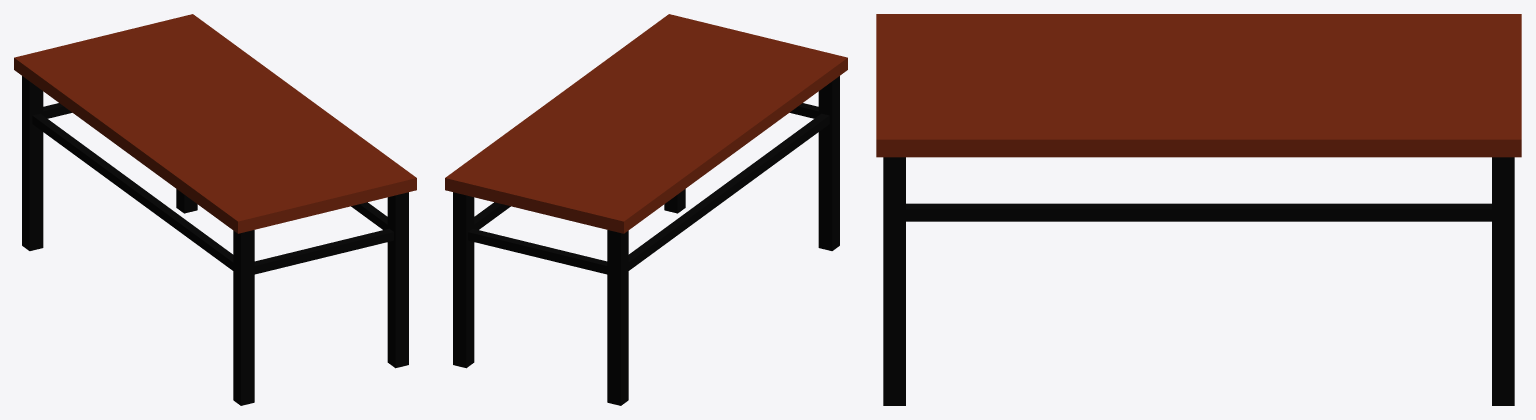
The model's file is table_leti.fbx.
3 renders of one model, left to right at view 1: azimuth 30°, elevation 25°; view 2: azimuth 150°, elevation 25°; view 3: azimuth 270°, elevation 25°, orthographic. The views are drawn at different scales.
Visible parts, largest first — view 1: Cube; view 2: Cube; view 3: Cube.
Part boxes in pixels (<box>): Cube: <box>14,14,416,405</box>; Cube: <box>445,14,847,405</box>; Cube: <box>876,14,1521,405</box>.
Size of the model in its own units: 440 by 441 by 954.
